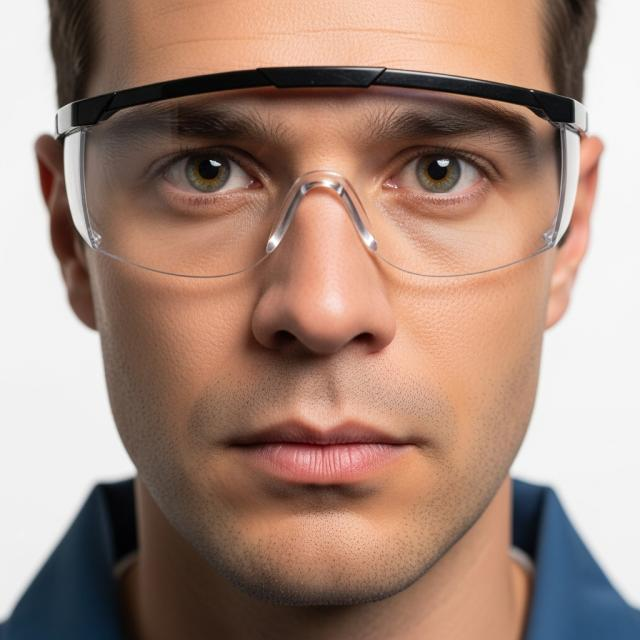oculos-epi: (58, 67, 586, 278)
